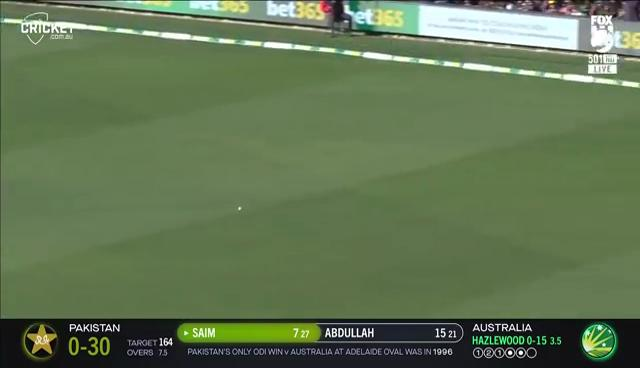ball: (228, 197, 254, 219)
